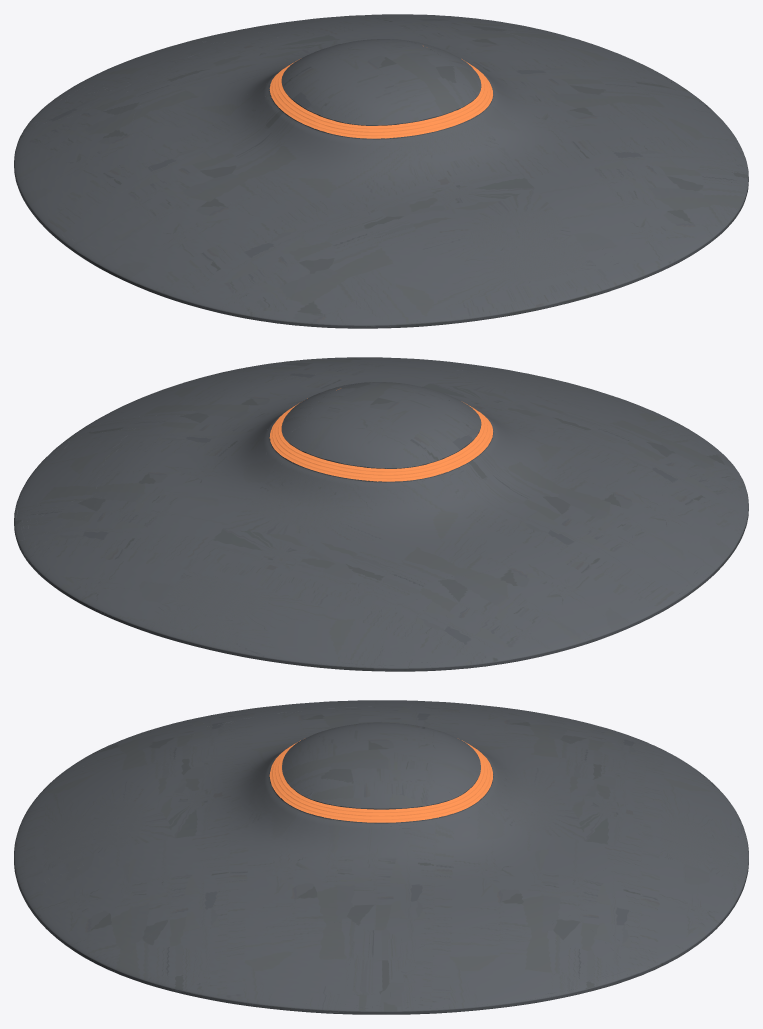
File: ufo.glb
3 renders of one model, top to bottom at view 1: azimuth 30°, elevation 25°; view 2: azimuth 150°, elevation 25°; view 3: azimuth 270°, elevation 25°, orthographic. The views are drawn at different scales.
Visible parts, largest first — view 1: UFO; view 2: UFO; view 3: UFO.
Boxes of the visible parts, <box> form: UFO: <box>14,14,748,328</box>; UFO: <box>14,357,748,671</box>; UFO: <box>14,700,748,1014</box>.
Size of the model in its own units: 9.37 by 2.49 by 9.37.
Materials: 3 (3 with a texture image).
